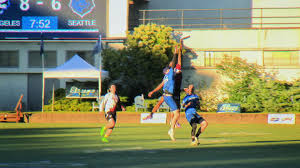disc: (179, 33, 192, 42)
